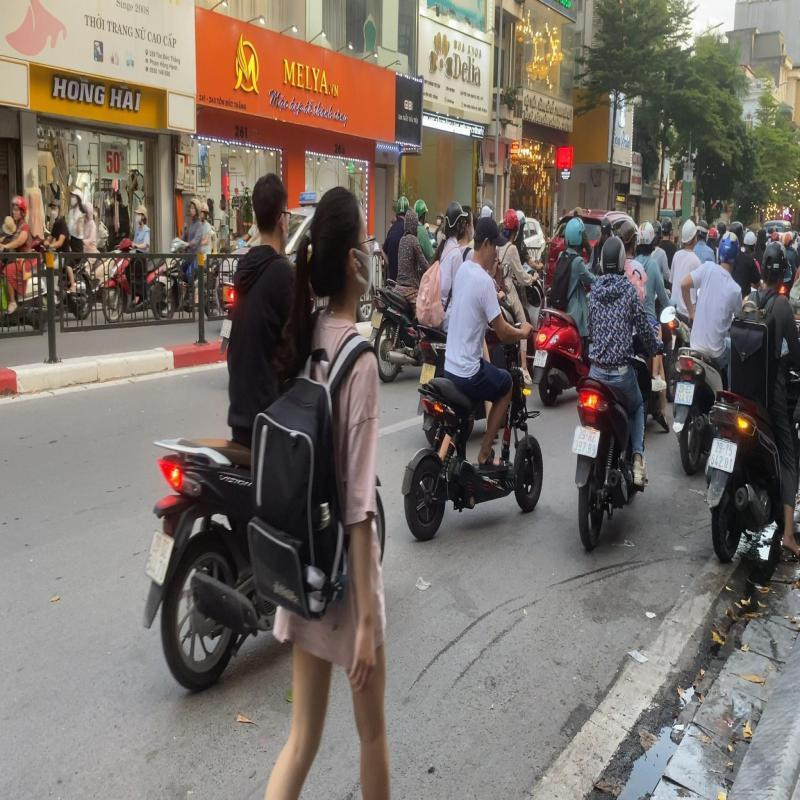nohelmet: (251, 165, 293, 249)
